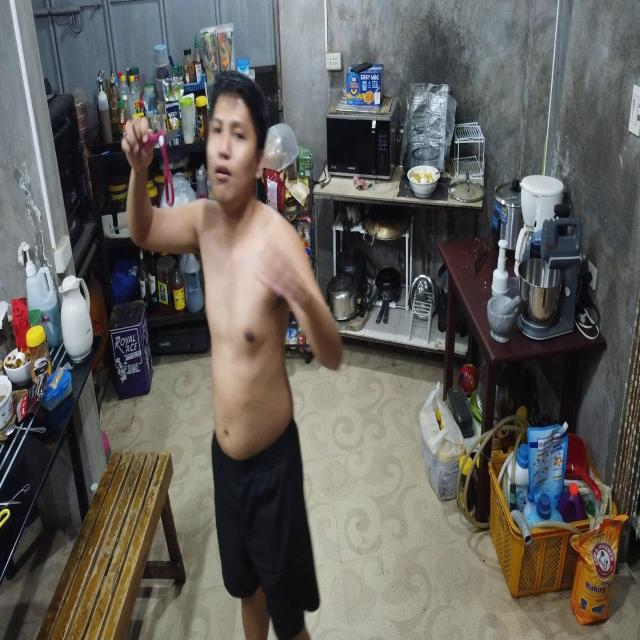scissor: (141, 96, 183, 207)
